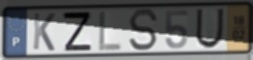5: (164, 8, 189, 50)
K: (31, 12, 57, 53)
L: (97, 9, 123, 53)
S: (128, 8, 160, 53)
U: (194, 7, 226, 50)
Z: (61, 10, 94, 52)
